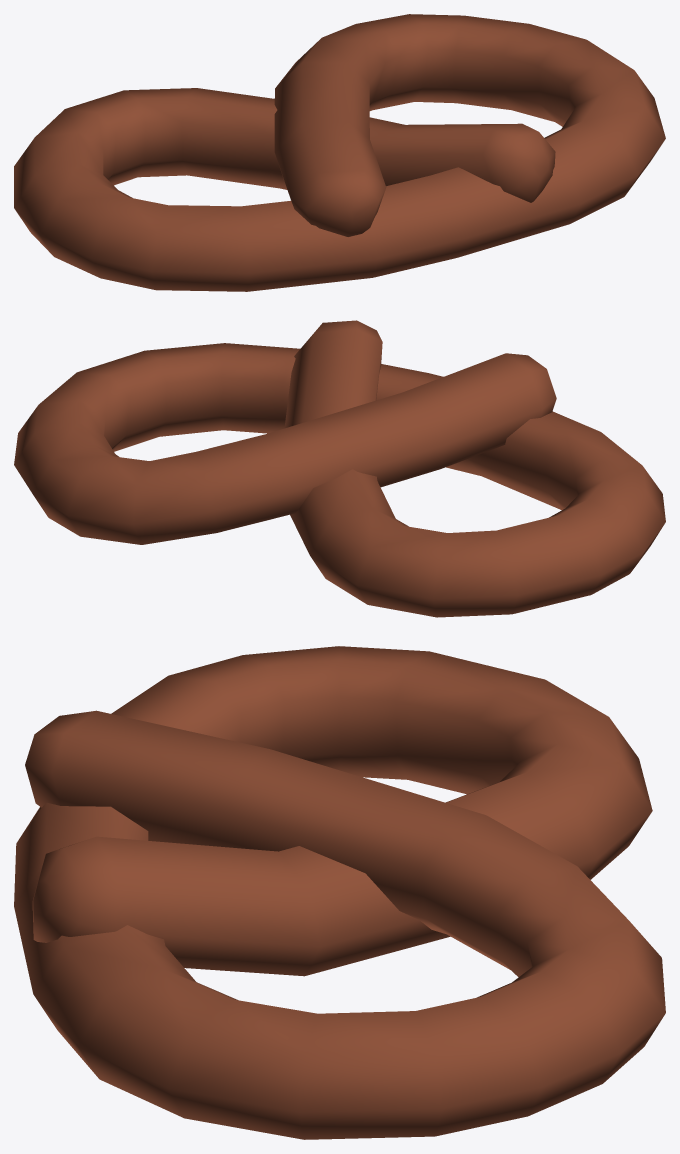
The model's file is Pretzel_01.fbx.
3 views of the same model, one above another, from view 1: azimuth 30°, elevation 25°; view 2: azimuth 150°, elevation 25°; view 3: azimuth 270°, elevation 25° (orthographic). The views are drawn at different scales.
Parts seen in each view (by area): view 1: Pretzel_01; view 2: Pretzel_01; view 3: Pretzel_01.
Boxes of the visible parts, left/top/right/bottom form: Pretzel_01: left=14, top=14, right=665, bottom=291; Pretzel_01: left=14, top=320, right=665, bottom=617; Pretzel_01: left=14, top=646, right=665, bottom=1139.
Size of the model in its own units: 0.2291 by 0.0415 by 0.1455.
